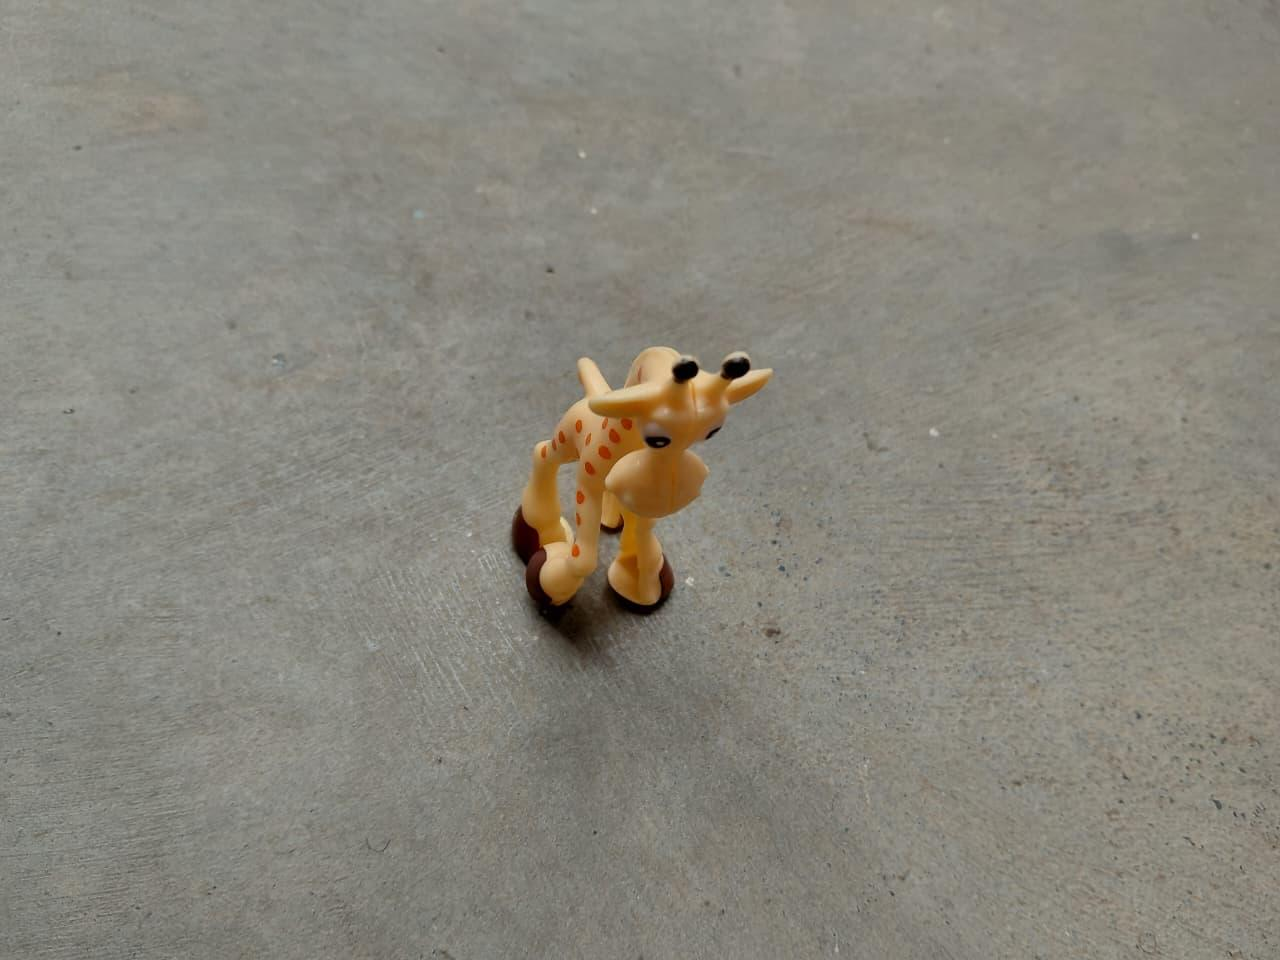giraffe: (502, 325, 776, 634)
